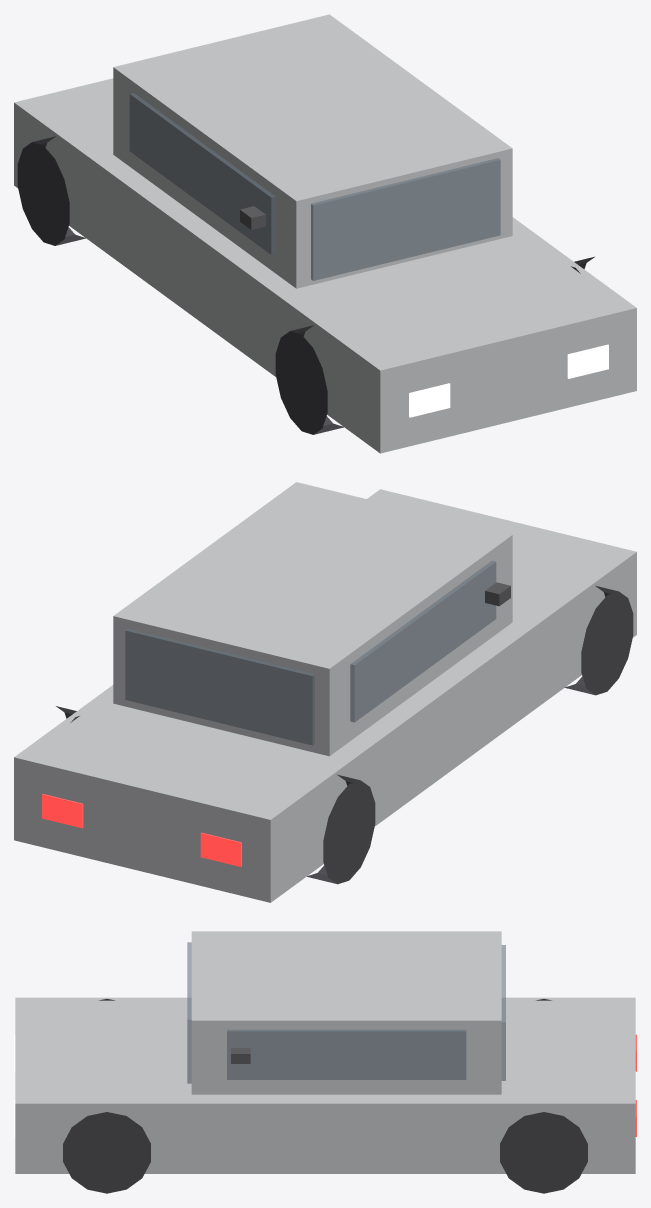
File: sedan.glb
The picture shows the model from 3 angles, top to bottom: view 1: azimuth 30°, elevation 25°; view 2: azimuth 150°, elevation 25°; view 3: azimuth 270°, elevation 25°; orthographic projection. The views are drawn at different scales.
Visible parts, largest first — view 1: sedan; view 2: sedan; view 3: sedan.
Boxes of the visible parts, x1=… form: sedan: x1=14, y1=14, x2=636, y2=453; sedan: x1=14, y1=482, x2=636, y2=902; sedan: x1=14, y1=931, x2=636, y2=1193.
Bounding box in the file's own units: 2.12 × 1.21 × 4.42.
